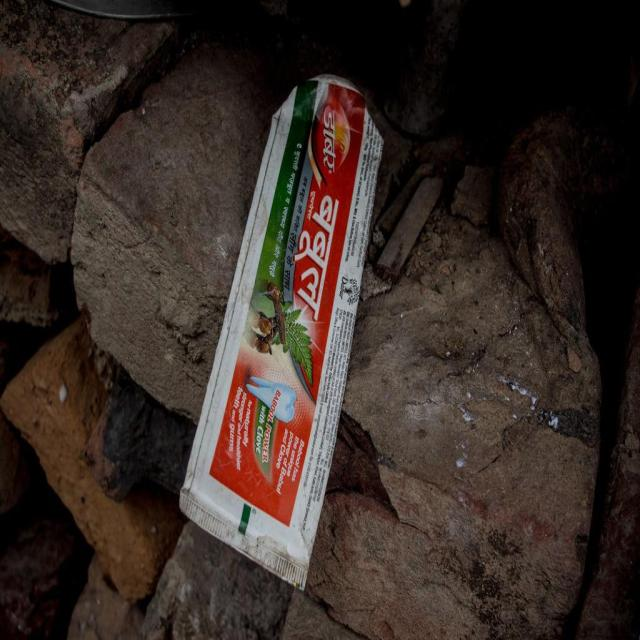Toothpaste: (176, 64, 390, 595)
